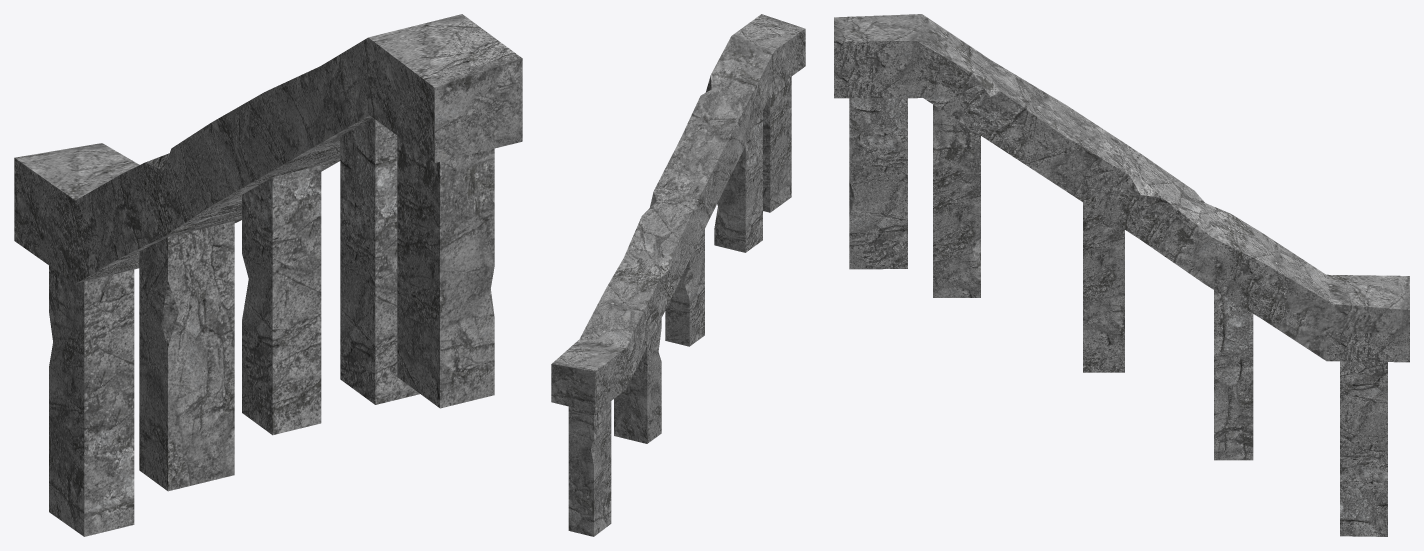
The model's file is materials_3_handrail_6.fbx.
3 views of the same model, side by side, from view 1: azimuth 30°, elevation 25°; view 2: azimuth 150°, elevation 25°; view 3: azimuth 270°, elevation 25° (orthographic). The views are drawn at different scales.
Visible parts, largest first — view 1: materials_3_handrail_6; view 2: materials_3_handrail_6; view 3: materials_3_handrail_6.
Boxes of the visible parts, x1,y1,x2,y2 form: materials_3_handrail_6: (14,14,522,536); materials_3_handrail_6: (551,14,805,536); materials_3_handrail_6: (834,14,1409,536).
Size of the model in its own units: 22.71 by 177 by 184.
